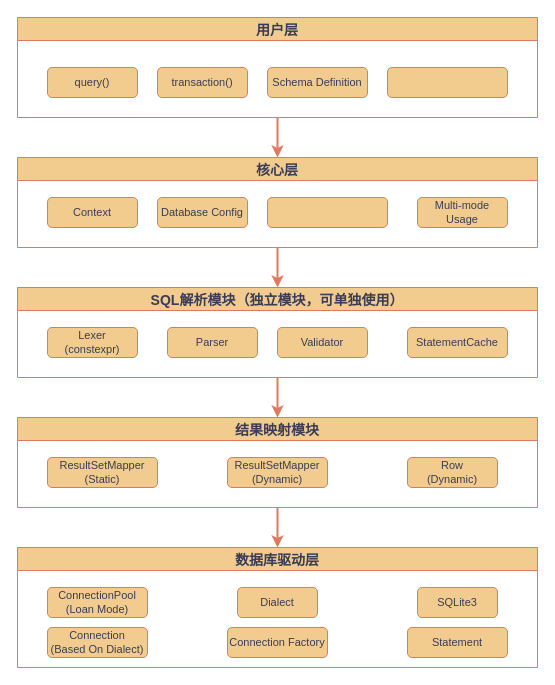
The diagram is 555 pixels wide and 685 high, and some of its shapes have lost their labels. Each missing label, with the centre of its shape:
"Schema Extractor/Visitor" goes at (447,82).
"Transaction Manager" goes at (327,212).
